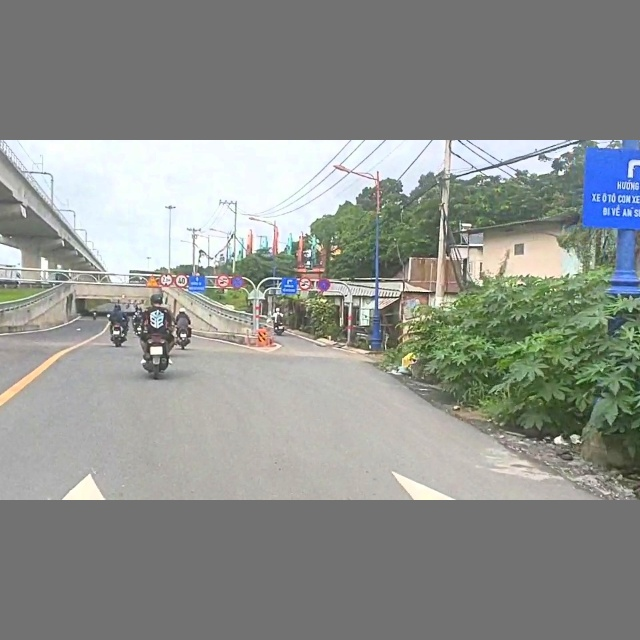P.107: (216, 275, 231, 289), (299, 277, 313, 290)
P.117*: (159, 273, 174, 287)
P.127*40: (175, 274, 189, 288)
P.130: (317, 278, 331, 292), (232, 276, 245, 289)
W.239b*: (145, 274, 159, 288)
